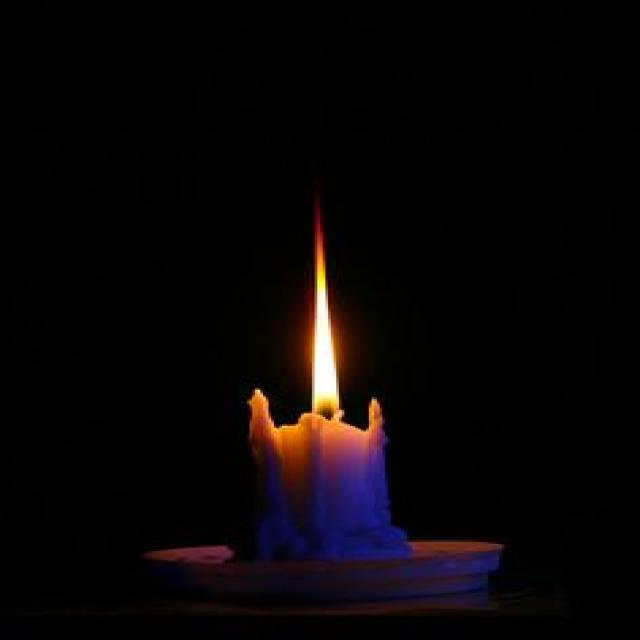Fire: (274, 197, 374, 431)
